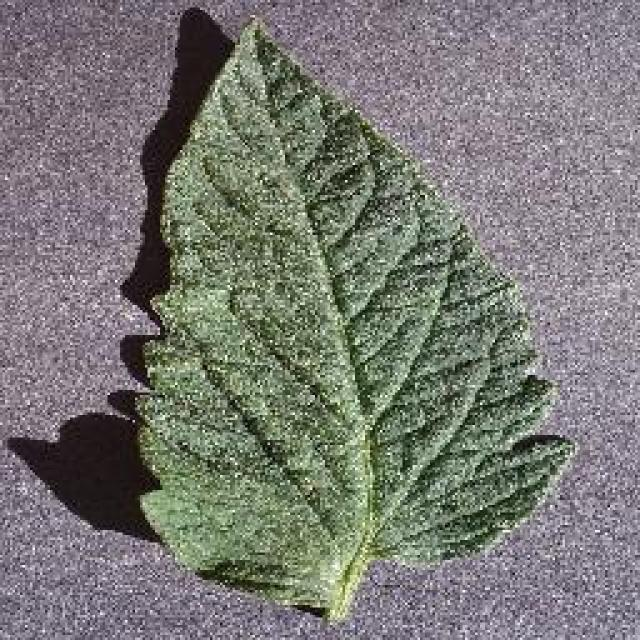Tomato_Healthy: (112, 10, 585, 592)
